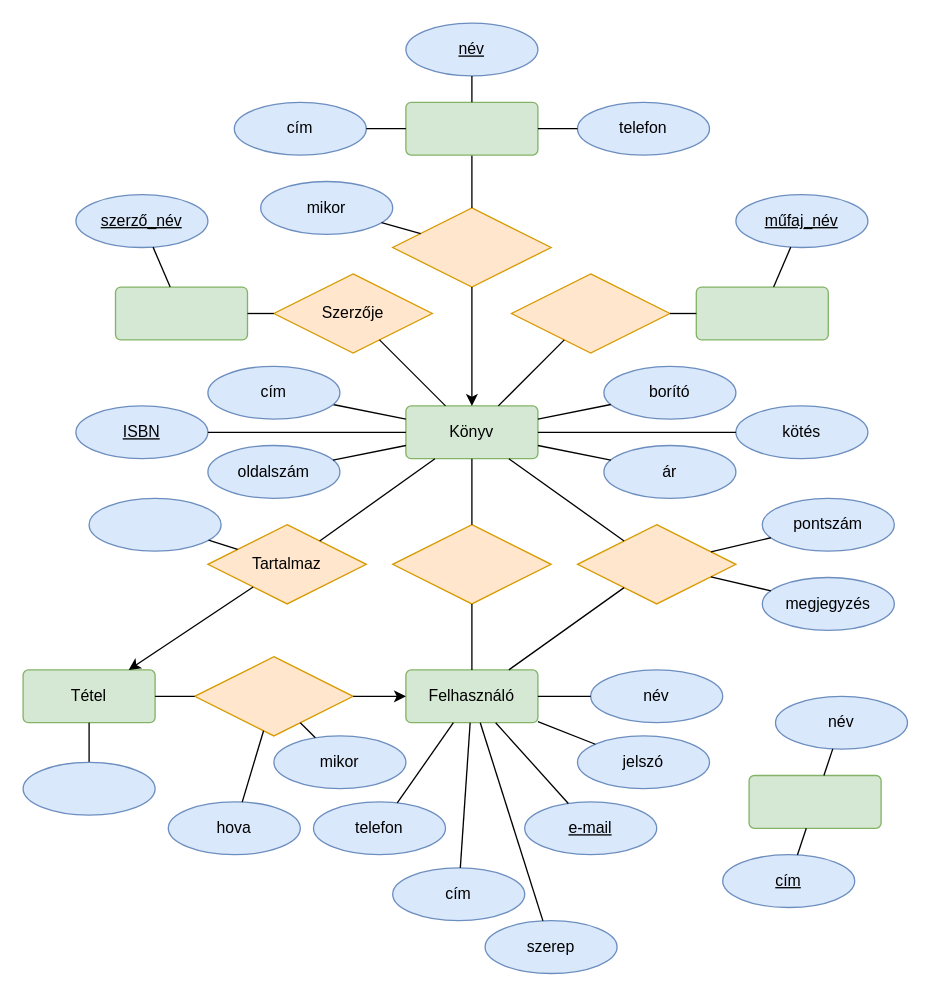
Image size: 931x997. Some labels were removed from this diagram. The shapes that lost their labels are listed below. From the top down, each one's box as (x1, y1, x2, y2) in pixels, then its label:
(405, 101, 538, 155): Kiadó
(391, 207, 551, 287): Kiadta
(114, 286, 248, 340): Szerző
(510, 273, 670, 353): Műfaja
(695, 286, 828, 340): Műfaj
(88, 497, 221, 551): darabszám
(391, 523, 551, 604): Kedvence
(576, 523, 736, 604): Értékelés
(193, 655, 353, 736): Megrendel
(22, 761, 155, 815): id
(748, 774, 881, 828): Üzlet
